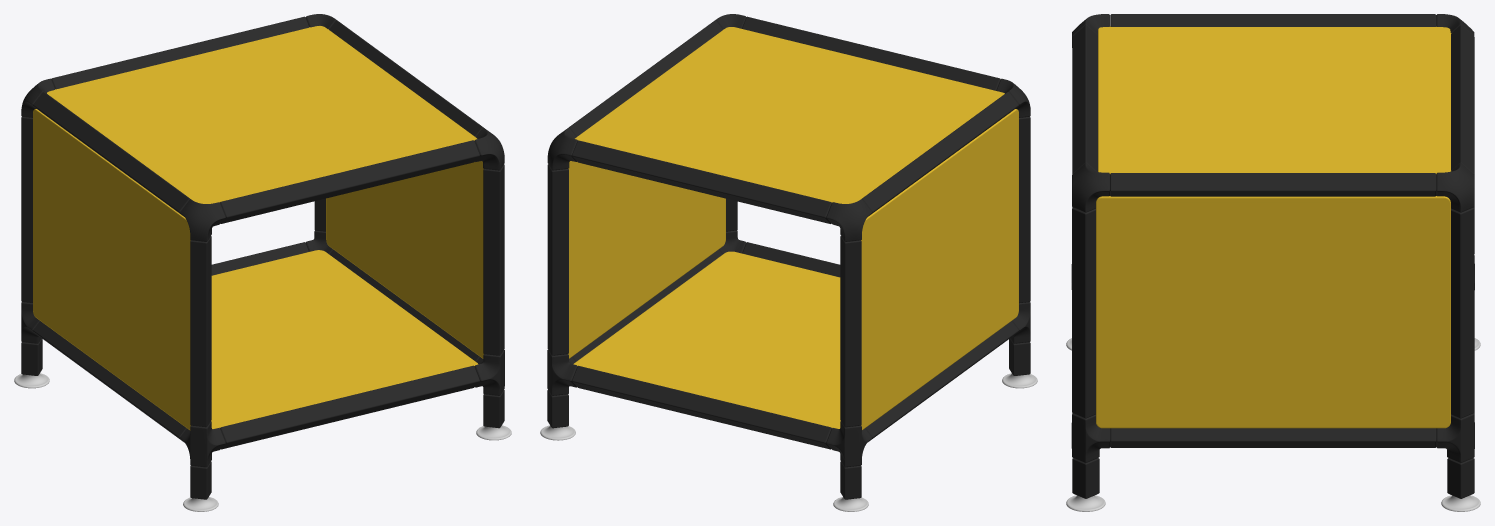
3 views of the same model, side by side, from view 1: azimuth 30°, elevation 25°; view 2: azimuth 150°, elevation 25°; view 3: azimuth 270°, elevation 25° (orthographic). The views are drawn at different scales.
Visible parts, largest first — view 1: 329x329x229; view 2: 329x329x229; view 3: 329x329x229.
Boxes of the visible parts, x1,y1,x2,y2 form: 329x329x229: [14, 14, 511, 511]; 329x329x229: [540, 14, 1037, 511]; 329x329x229: [1066, 14, 1480, 511].
Size of the model in its own units: 0.4189 by 0.3683 by 0.4182.
